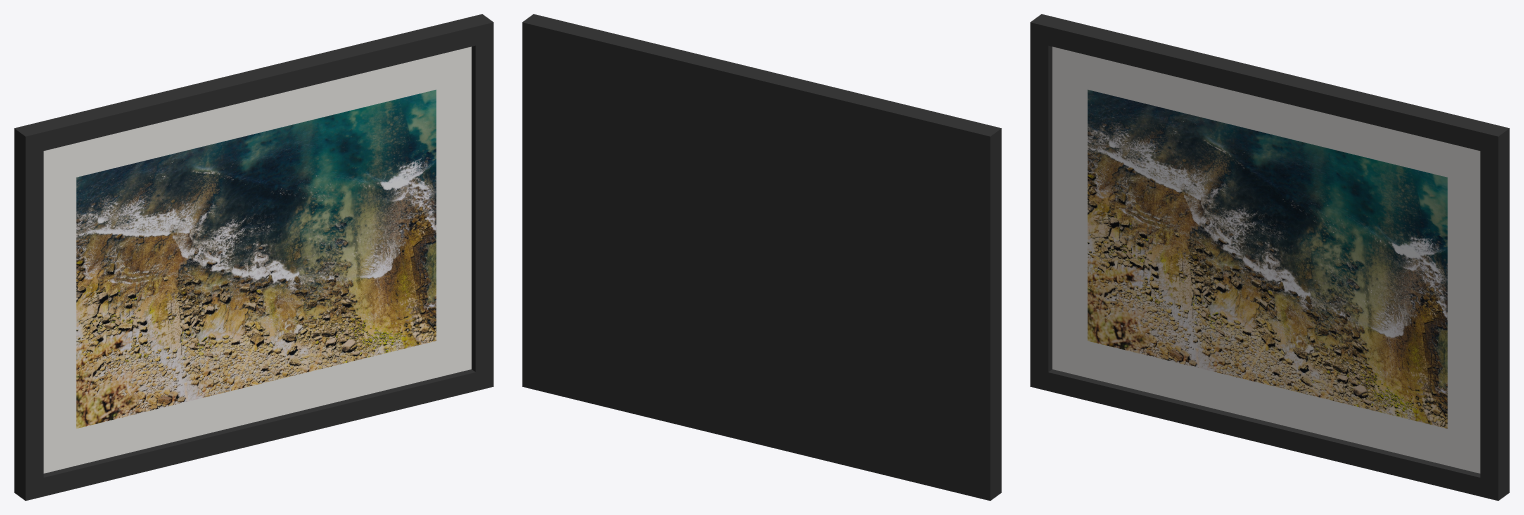
File: kusten-40.gltf
The picture shows the model from 3 angles, left to right: view 1: azimuth 30°, elevation 25°; view 2: azimuth 150°, elevation 25°; view 3: azimuth 330°, elevation 25°; orthographic projection.
Visible parts, largest first — view 1: tavla; view 2: tavla; view 3: tavla.
Boxes of the visible parts, bbox=[...] form: tavla: bbox=[14, 14, 493, 500]; tavla: bbox=[522, 14, 1001, 500]; tavla: bbox=[1030, 14, 1509, 500].
Bounding box in the file's own units: 0.52 × 0.3867 × 0.022.
Materials: 3 (1 with a texture image).
